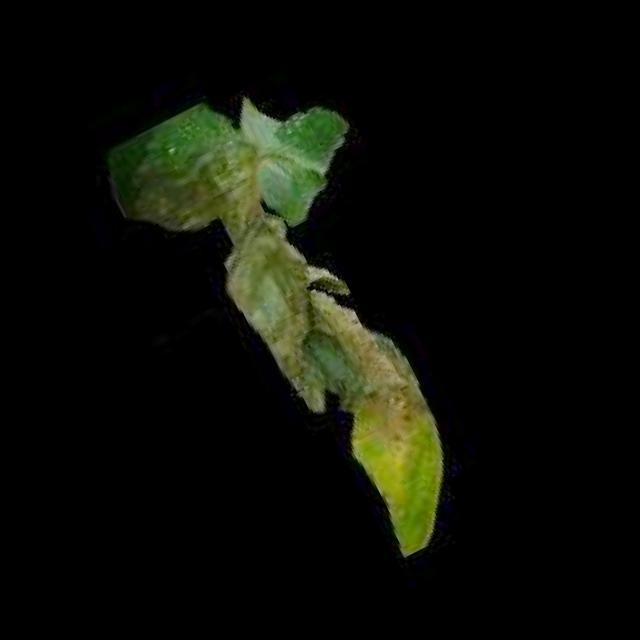Tomato late blight leaf: (101, 43, 535, 596)
